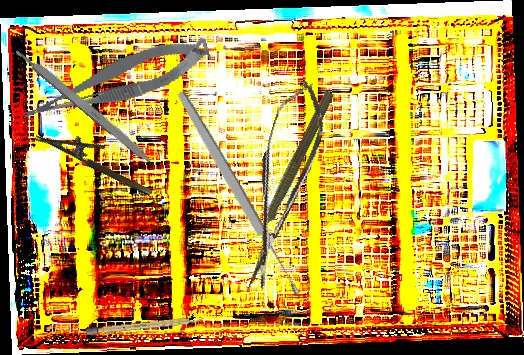Handpiece: (244, 87, 338, 249)
Micro Scissor: (225, 75, 336, 297), (14, 32, 216, 128)
Needle Holder: (34, 116, 160, 198)
Scalpel Handle: (13, 44, 158, 168), (85, 315, 205, 336)
Surgical Spoon: (173, 88, 305, 300)
